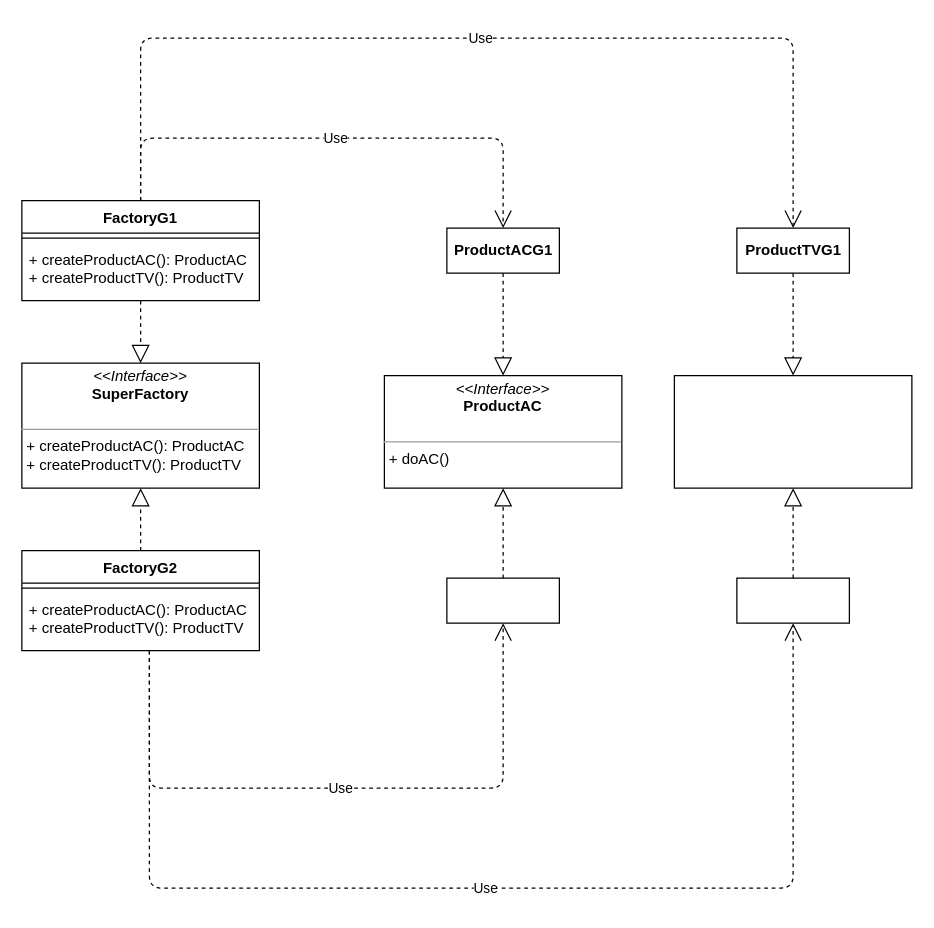
This 934x928 diagram has some shape labels left out. The box of each missing label's shape, as (x1, y1, x2, y2) in pixels:
<<Interface>> ProductTV + doTV(): (673, 374, 912, 488)
ProductACG2: (446, 577, 559, 623)
ProductTVG2: (736, 577, 849, 623)
